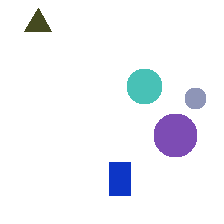circle: (154, 114, 196, 156), (127, 69, 161, 103), (185, 88, 205, 108)
rectangle: (109, 162, 130, 195)
triangle: (24, 8, 51, 31)
